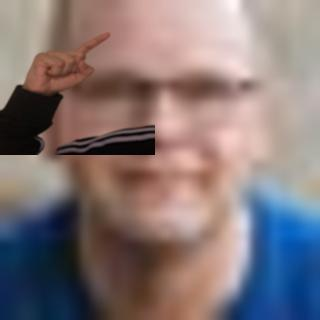WHY: (21, 28, 119, 93)
